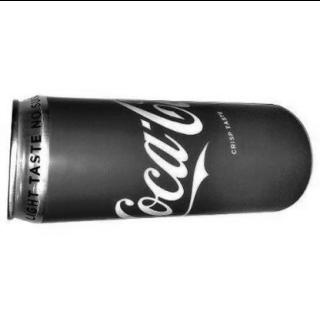alumunium_can: (5, 94, 314, 223)
